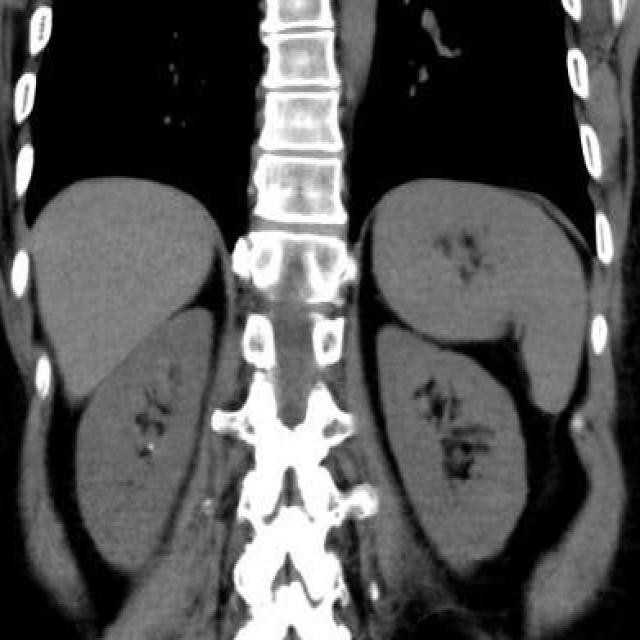Tas_Var: (146, 441, 156, 453)
